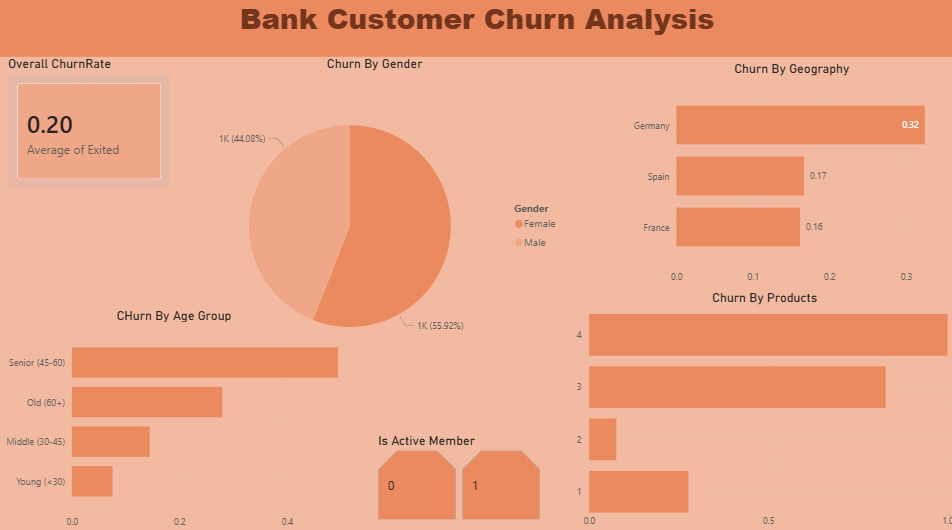

Layout of this report page (visuals, bound fields, positions):
{"tool":"powerbi","page":{"name":"Page 1","canvas":[1280,720],"ordinal":0},"visuals":[{"type":"clusteredBarChart","title":"Churn By Geography","fields":{"Category":["Bank_Churn.Geography"],"Y":["Avg(Bank_Churn.Exited)"]},"box":[840,88,440,306],"z":1},{"type":"cardVisual","title":"Overall ChurnRate","fields":{"Data":["Avg(Bank_Churn.Exited)"]},"box":[10,82,226,182],"z":2},{"type":"pieChart","title":"Churn By Gender","fields":{"Category":["Bank_Churn.Gender"],"Y":["Sum(Bank_Churn.Exited)"]},"box":[246,82,514,434],"z":3},{"type":"clusteredBarChart","title":"CHurn By Age Group","fields":{"Category":["Bank_Churn.Age Group"],"Y":["Avg(Bank_Churn.Exited)"]},"box":[0,416,472,304],"z":4},{"type":"clusteredBarChart","title":"Churn By Products","fields":{"Category":["Bank_Churn.NumOfProducts"],"Y":["Avg(Bank_Churn.Exited)"]},"box":[766,394,514,326],"z":5},{"type":"advancedSlicerVisual","title":"Is Active Member","fields":{"Values":["Bank_Churn.IsActiveMember"]},"box":[504,584,226,122],"z":6},{"type":"textbox","box":[0,0,1280,82],"z":7}]}

Visuals, with their boxes in screenshot pixels (x1, y1, x2, y2), scaled from the page's 1280x720 canvas onto the 952x530 screenshot:
"Churn By Geography" clusteredBarChart: 625 65 951 290
"Overall ChurnRate" cardVisual: 7 60 176 194
"Churn By Gender" pieChart: 183 60 565 380
"CHurn By Age Group" clusteredBarChart: 0 306 351 529
"Churn By Products" clusteredBarChart: 570 290 951 529
"Is Active Member" advancedSlicerVisual: 375 430 543 520
textbox: 0 0 951 60
